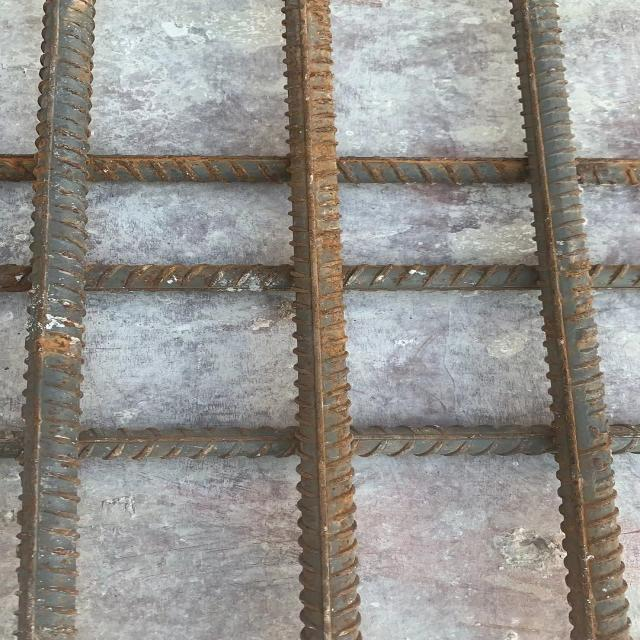ribbed bar: (507, 0, 634, 639), (277, 1, 367, 639), (13, 0, 101, 639), (0, 424, 639, 462), (0, 154, 639, 186), (0, 262, 639, 294)
